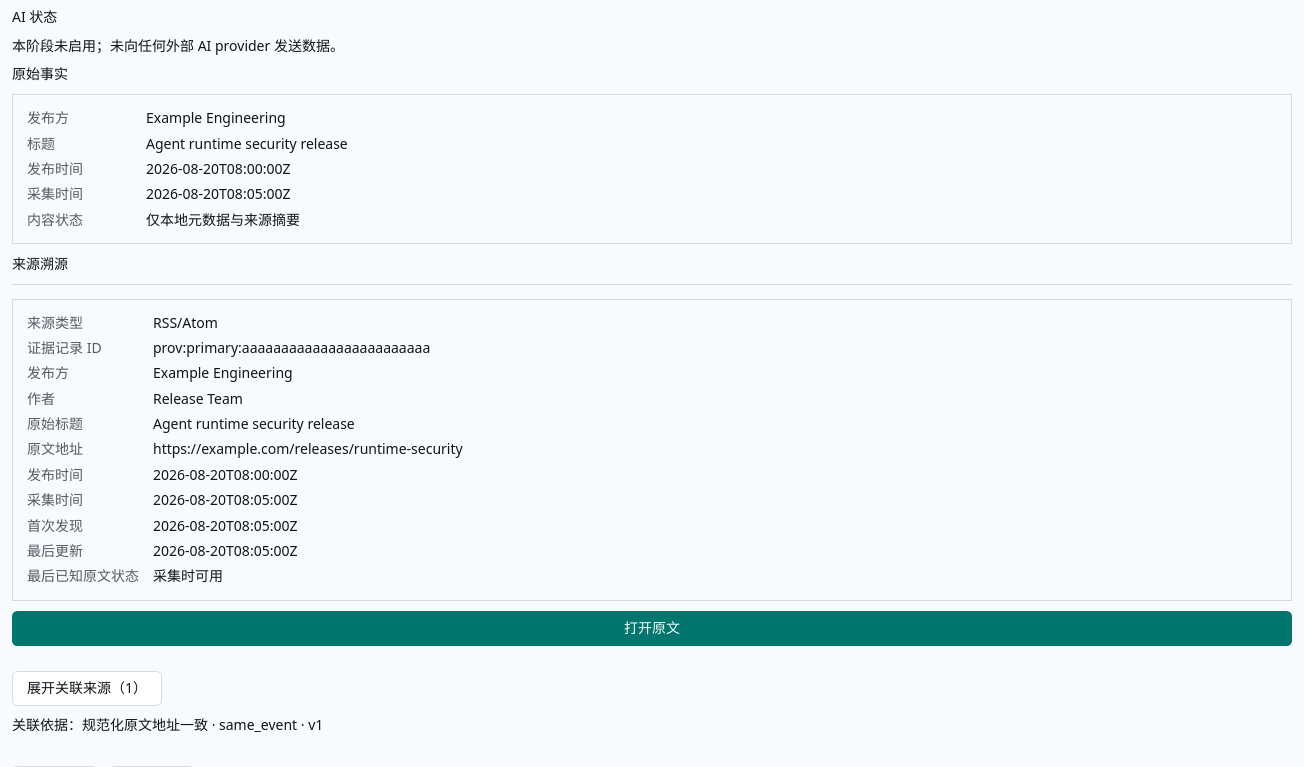
it: EvidenceDetailPanel › 只把稳定 provenance 记录交给打开原文意图
(page scrolled)
What coordinates should you click on to do the following:
click the button "打开原文"
I would click on:
 (652, 629)
Its box is [12,611,1292,646].
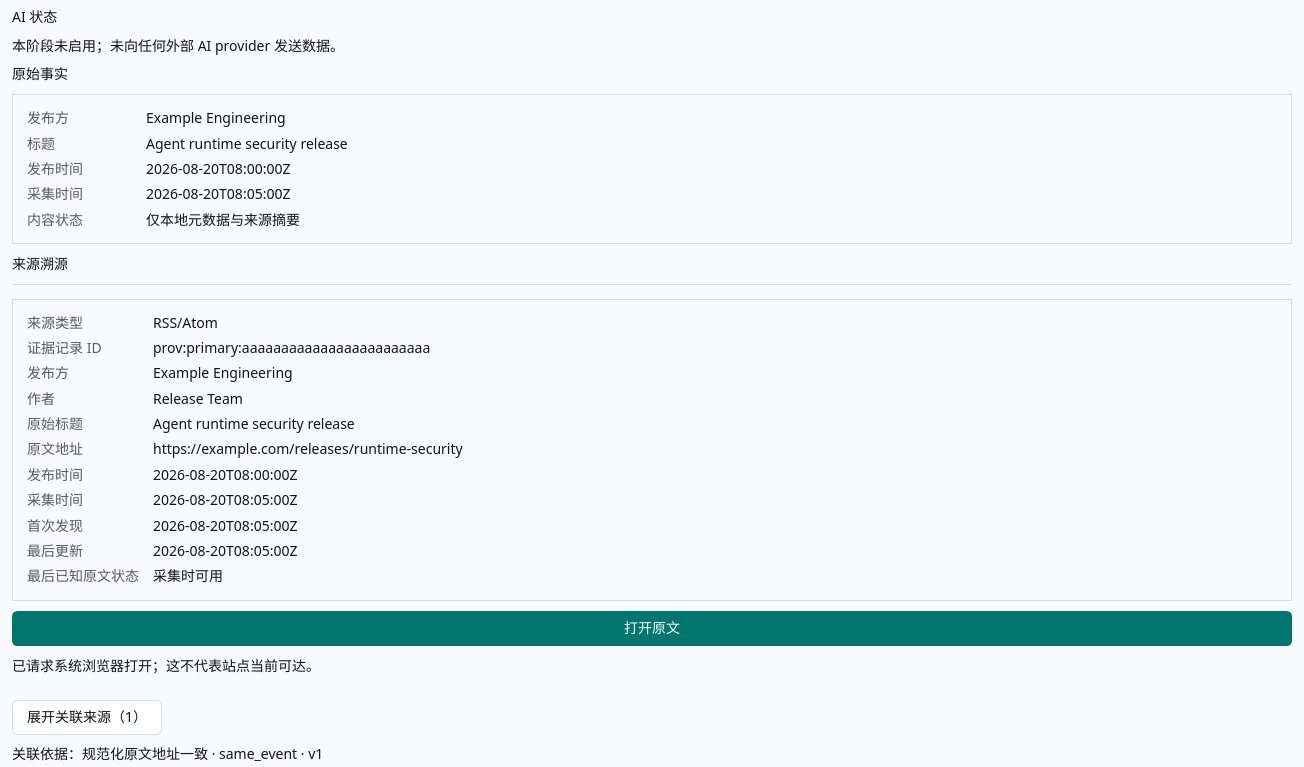
Result: the text "已请求系统浏览器打开；这不代表站点当前可达。" is shown at [12,656,320,675]
